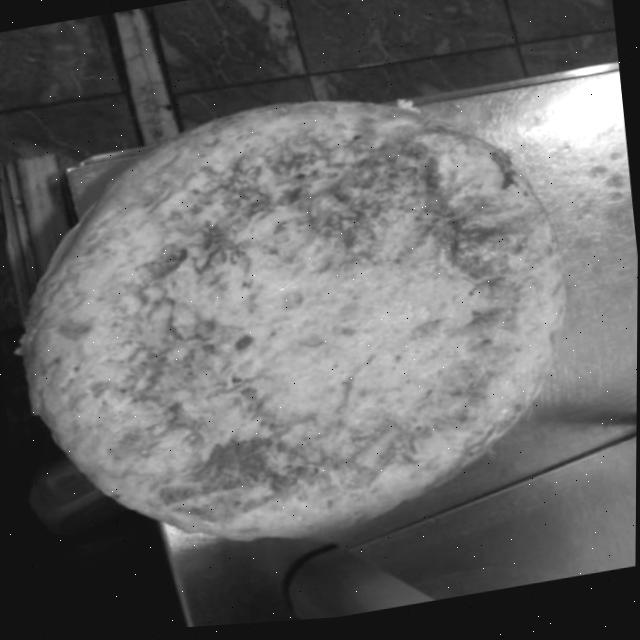面包点心: (0, 28, 597, 583)
